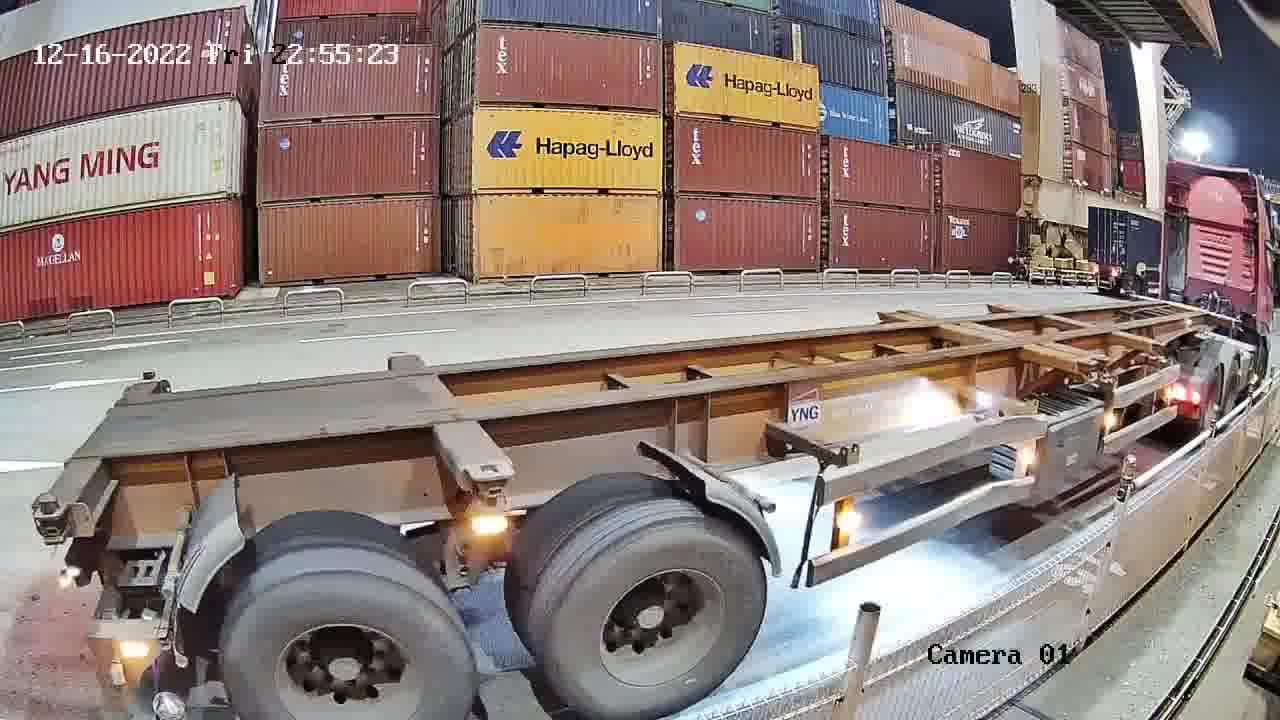Chassis: (34, 377, 167, 514)
Cone: (34, 497, 74, 545), (127, 368, 166, 396)
Tire: (544, 523, 769, 719), (223, 561, 479, 717)
